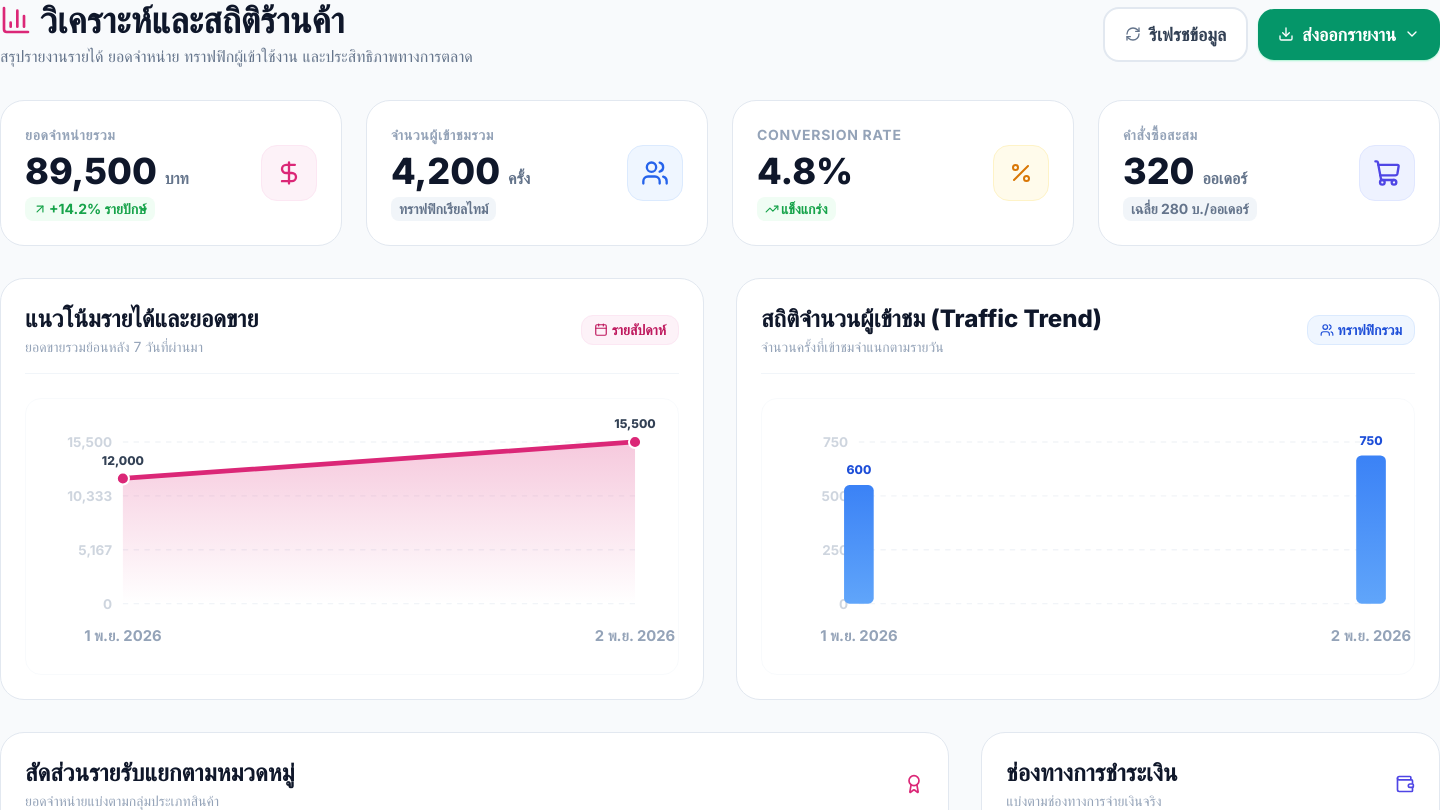
Test: AnalyticsPage - Sales Report Export Tests › exports daily sales report from dropdown menu
Check: the text "ส่งออกรายงาน" is shown, box [1302,20,1396,48]
Click the button "ส่งออกรายงาน": point(1349, 34) [1258,8,1439,60]
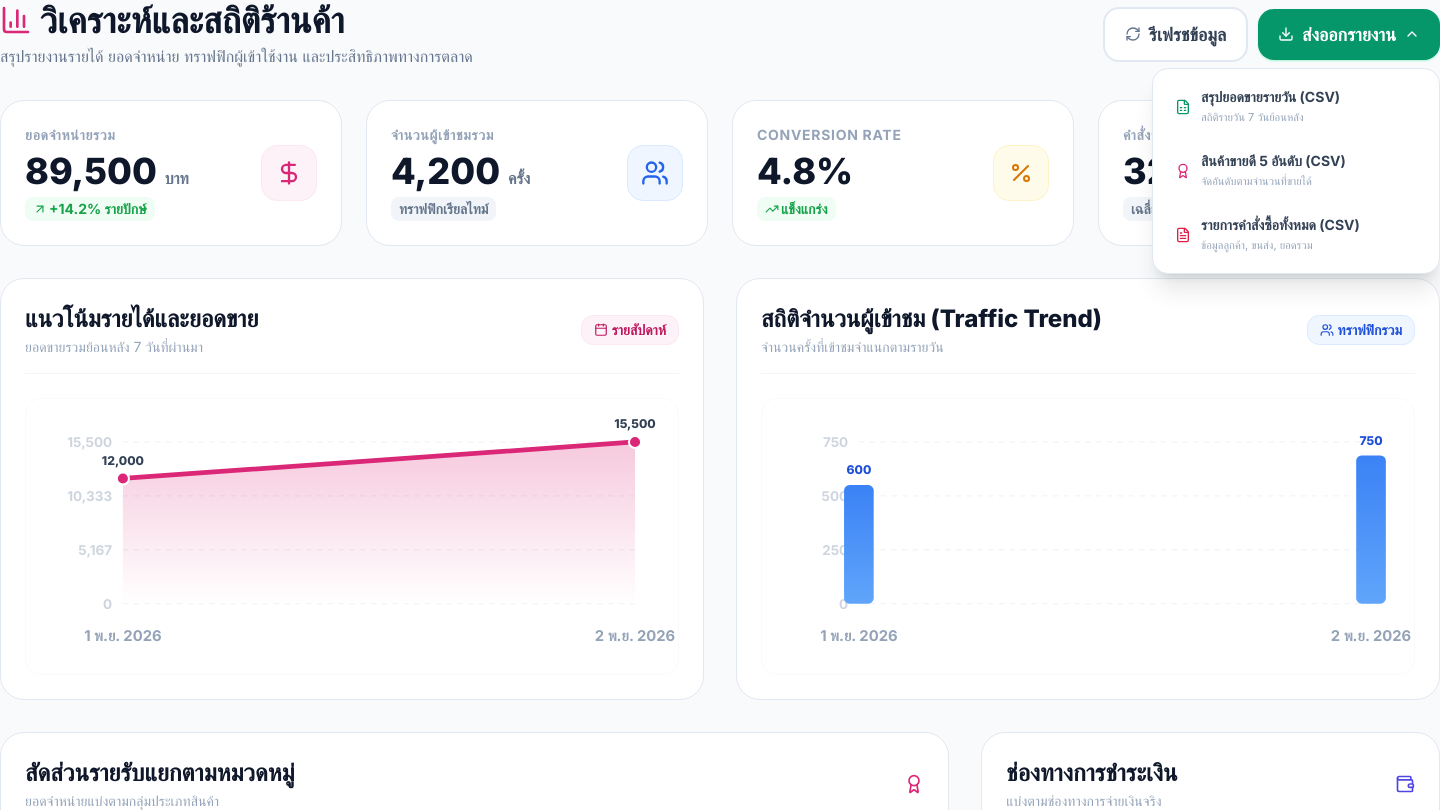
Click the text "สรุปยอดขายรายวัน (CSV)": point(1271, 96) [1201,86,1340,106]
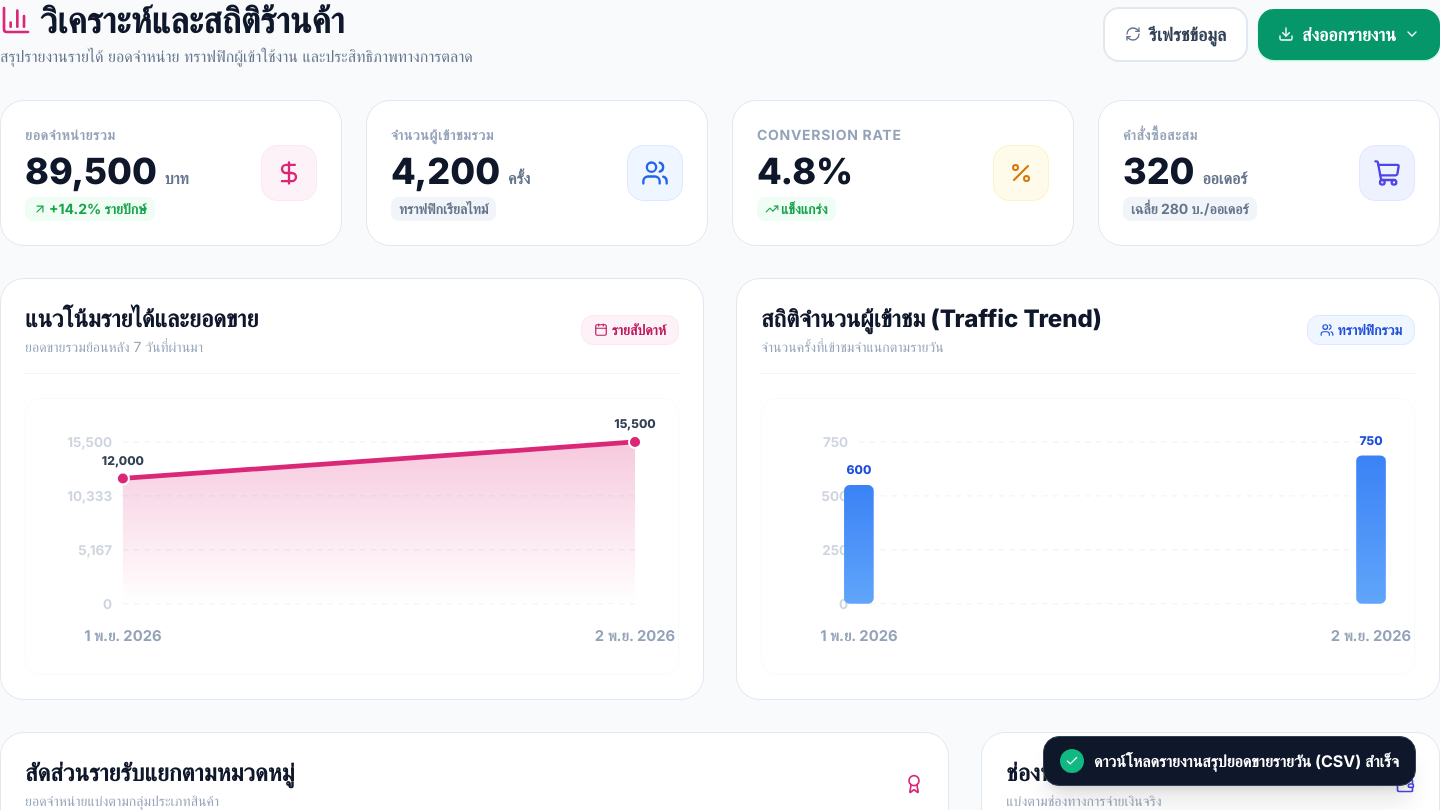
Check: the text "ดาวน์โหลดรายงานสรุปยอดขายรายวัน (CSV) สำเร็จ" is shown, box [1094,749,1399,773]
